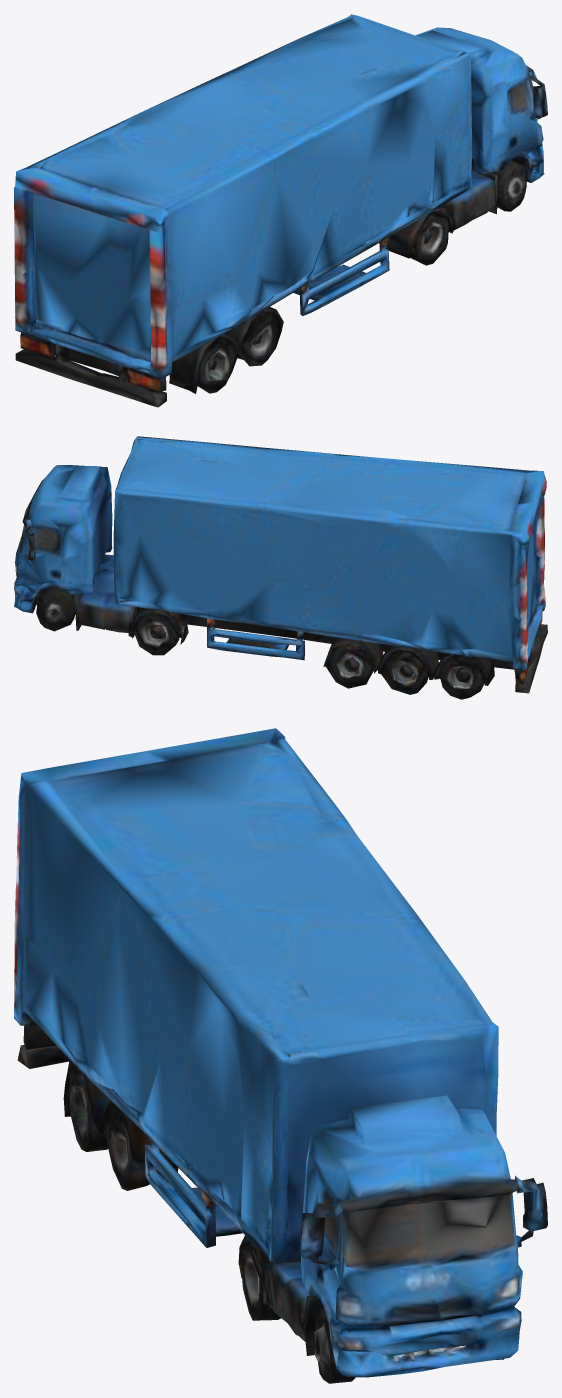
The model's file is veh-cargotruck.glb.
3 views of the same model, one above another, from view 1: azimuth 30°, elevation 25°; view 2: azimuth 150°, elevation 25°; view 3: azimuth 270°, elevation 25° (orthographic). The views are drawn at different scales.
Visible parts, largest first — view 1: tripo_node_d5ba0f02-ae0b-45bc-b6e0-9cc4914389e2; view 2: tripo_node_d5ba0f02-ae0b-45bc-b6e0-9cc4914389e2; view 3: tripo_node_d5ba0f02-ae0b-45bc-b6e0-9cc4914389e2.
Boxes of the visible parts, <box> form: tripo_node_d5ba0f02-ae0b-45bc-b6e0-9cc4914389e2: <box>14,14,547,407</box>; tripo_node_d5ba0f02-ae0b-45bc-b6e0-9cc4914389e2: <box>14,436,547,699</box>; tripo_node_d5ba0f02-ae0b-45bc-b6e0-9cc4914389e2: <box>14,728,547,1383</box>.
Size of the model in its own units: 0.8894 by 0.3282 by 0.4831.
1 material, 1 textured.
